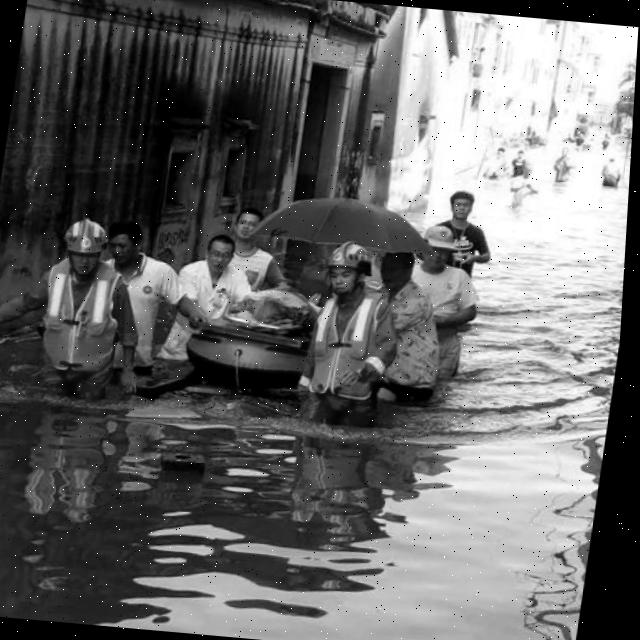civilian: (80, 205, 217, 415), (149, 220, 267, 407), (389, 214, 504, 402), (361, 243, 465, 415), (205, 190, 307, 306), (426, 182, 517, 294), (543, 143, 587, 204), (477, 132, 513, 185), (593, 154, 628, 198), (505, 140, 535, 187), (592, 126, 615, 156), (567, 122, 590, 150)
rescuer: (0, 208, 164, 425), (286, 235, 418, 444)
